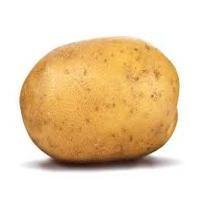biodegradable: (19, 34, 181, 165)
